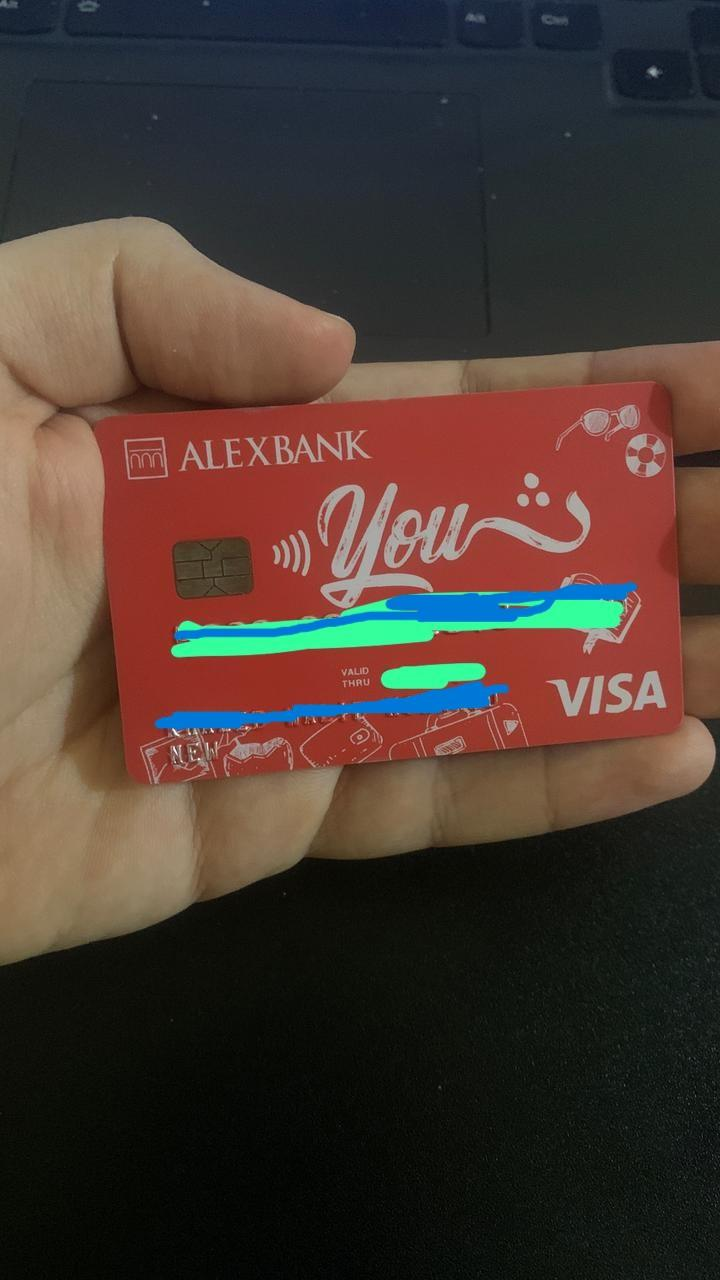payment_card: (95, 376, 690, 779)
